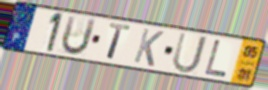1: (45, 11, 66, 54)
K: (131, 27, 166, 69)
L: (203, 38, 229, 79)
T: (105, 21, 133, 62)
U: (59, 14, 99, 57), (170, 31, 209, 75)
